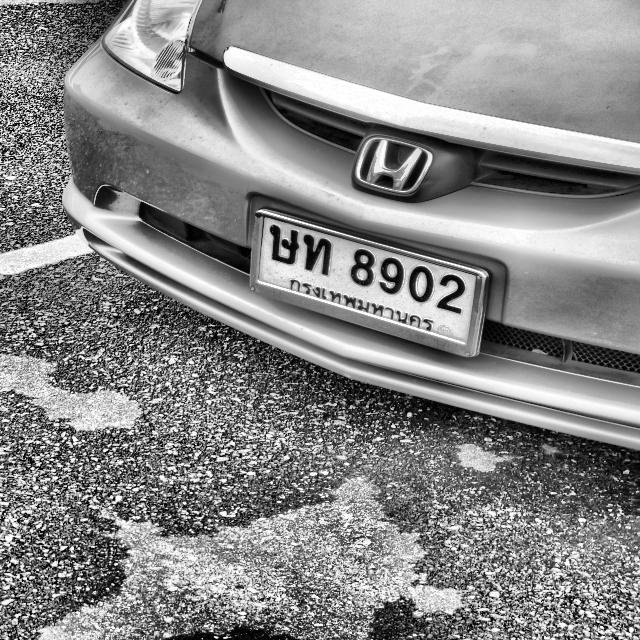license-plate: (251, 207, 485, 361)
